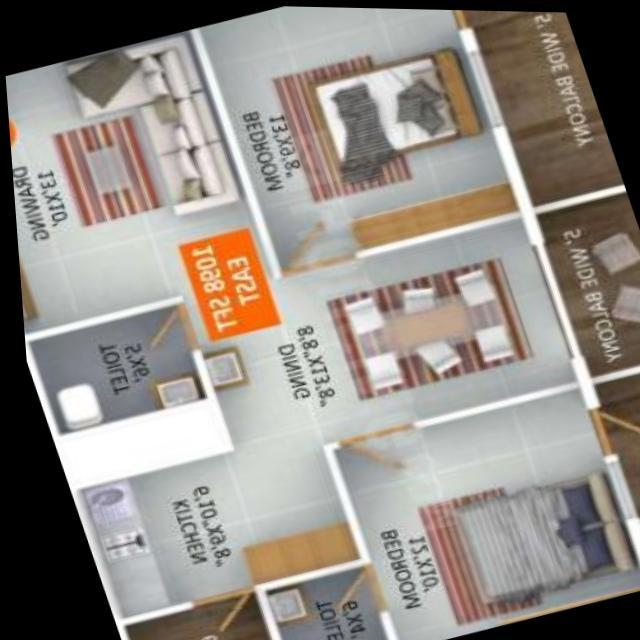Balcony-Sitout: (465, 8, 622, 207), (529, 183, 640, 379), (581, 368, 640, 521)
Bedroom: (196, 5, 527, 273), (319, 378, 640, 640)
Dining: (318, 251, 527, 399)
Kitchen: (63, 422, 354, 621)
Living: (4, 26, 275, 340)
Toilet: (24, 302, 208, 435), (248, 559, 382, 640), (107, 586, 264, 640)
